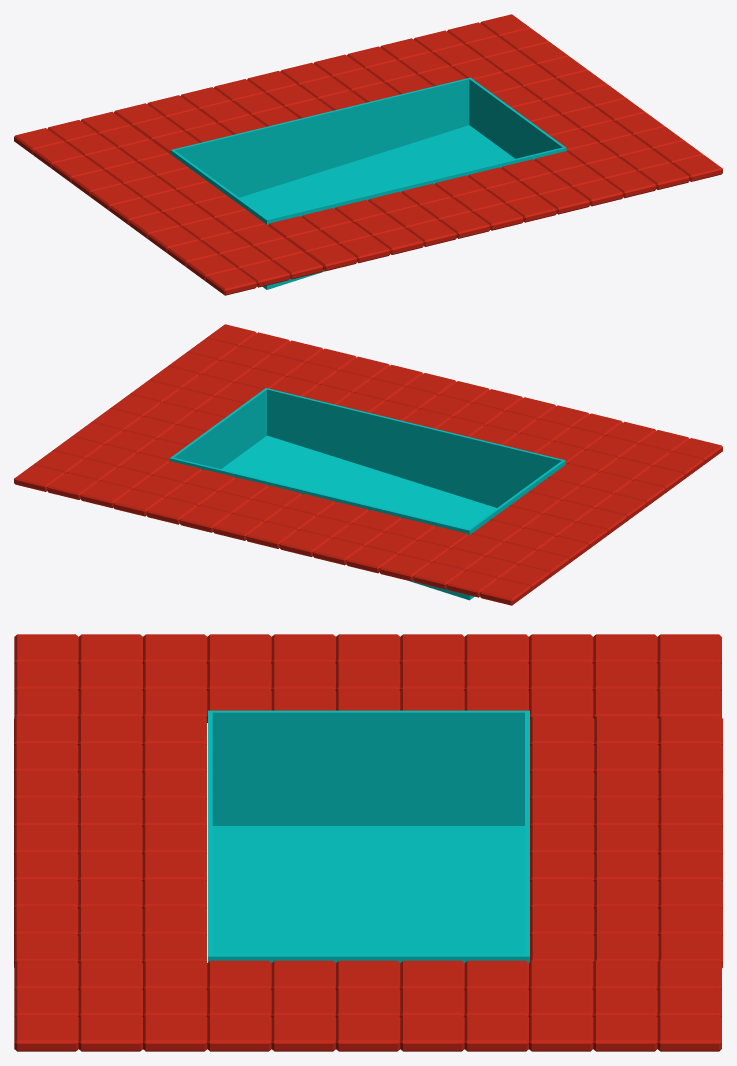
The model's file is pool-2.obj.
3 renders of one model, top to bottom at view 1: azimuth 30°, elevation 25°; view 2: azimuth 150°, elevation 25°; view 3: azimuth 270°, elevation 25°, orthographic. The views are drawn at different scales.
Visible parts, largest first — view 1: Cube.001, Cube; view 2: Cube.001, Cube; view 3: Cube.001, Cube.
Part boxes in pixels (x1,y1,x2,y2): Cube.001: (14, 14, 722, 295); Cube: (170, 77, 566, 289); Cube.001: (14, 324, 722, 605); Cube: (170, 388, 565, 600); Cube.001: (14, 634, 722, 1051); Cube: (208, 710, 529, 962).
Bounding box in the file's own units: 30.01 × 4 × 22.05.
